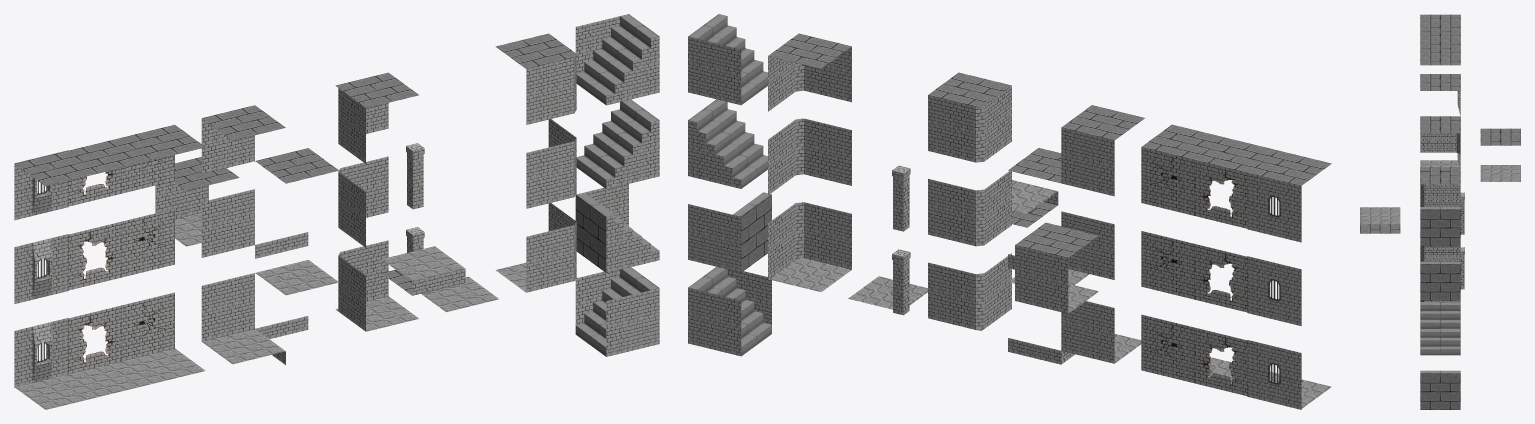
The model's file is StoneInterior_Tileset.fbx.
The picture shows the model from 3 angles, left to right: view 1: azimuth 30°, elevation 25°; view 2: azimuth 150°, elevation 25°; view 3: azimuth 270°, elevation 25°; orthographic projection. The views are drawn at different scales.
Visible parts, largest first — view 1: stone_stairs01_2x2_leftWall01, stone_stairs01_2x2_doubleWall01, stone_stairs01_2x2, stone_stairs01_2x2_rightWall01, stone_window01_floor01, stone_wall01cracking_floor01, stone_wall01_floor01, stone_wall01cornerOutside_ceiling01, stone_wall01cornerInside_floor01, stone_wall01hole_floor01, stone_wall01cornerOutside_floor01, stone_wall01cornerInside_ceiling01 (+18 smaller); view 2: stone_wall01cornerInside_ceiling01, stone_wall01cornerOutside_floor01, stone_stairs01_2x2_doubleWall01, stone_wall01_floor01_ceiling01, stone_stairs01_2x2_leftWall01, stone_stairs01_2x2, stone_stairs01_2x2_rightWall01, stone_wall01cornerOutside_ceiling01, stone_wall01cornerOutside_standard, stone_wall01cornerInside_standard, stone_window01_ceiling01, stone_wall01cornerInside_floor01 (+16 smaller); view 3: stone_stairs01_2x2_rightWall01, stone_stairs01_2x2, stone_stairs01_2x2_leftWall01, stone_stairs01_2x2_doubleWall01, stone_wall01cornerOutside_ceiling01, stone_wall01cornerInside_ceiling01, stone_wall01_floor01_ceiling01, stone_platform01_side, stone_wall01cracking_ceiling01, stone_wall01hole_ceiling01, stone_window01_ceiling01, stone_wall01_ceiling01 (+4 smaller).
Boxes of the visible parts, x1,y1,x2,y2 form: stone_stairs01_2x2_leftWall01: [575, 14, 659, 105]; stone_stairs01_2x2_doubleWall01: [575, 267, 659, 356]; stone_stairs01_2x2: [576, 99, 659, 189]; stone_stairs01_2x2_rightWall01: [575, 184, 659, 272]; stone_window01_floor01: [14, 318, 98, 409]; stone_wall01cracking_floor01: [121, 292, 205, 383]; stone_wall01_floor01: [201, 273, 285, 364]; stone_wall01cornerOutside_ceiling01: [495, 33, 578, 124]; stone_wall01cornerInside_floor01: [335, 240, 418, 331]; stone_wall01hole_floor01: [68, 305, 151, 396]; stone_wall01cornerOutside_floor01: [495, 203, 578, 292]; stone_wall01cornerInside_ceiling01: [335, 72, 418, 163]; stone_wall01cornerInside_ceiling01: [928, 72, 1011, 162]; stone_wall01cornerOutside_floor01: [768, 202, 851, 291]; stone_stairs01_2x2_doubleWall01: [688, 266, 771, 356]; stone_wall01_floor01_ceiling01: [1015, 222, 1098, 313]; stone_stairs01_2x2_leftWall01: [688, 14, 767, 105]; stone_stairs01_2x2: [688, 99, 767, 188]; stone_stairs01_2x2_rightWall01: [688, 192, 771, 272]; stone_wall01cornerOutside_ceiling01: [768, 33, 851, 111]; stone_wall01cornerOutside_standard: [768, 118, 851, 195]; stone_wall01cornerInside_standard: [928, 171, 1011, 246]; stone_window01_ceiling01: [1247, 150, 1331, 242]; stone_wall01cornerInside_floor01: [928, 253, 1011, 330]; stone_stairs01_2x2_rightWall01: [1420, 302, 1460, 355]; stone_stairs01_2x2: [1420, 261, 1460, 300]; stone_stairs01_2x2_leftWall01: [1420, 207, 1460, 246]; stone_stairs01_2x2_doubleWall01: [1420, 370, 1460, 409]; stone_wall01cornerOutside_ceiling01: [1420, 167, 1460, 206]; stone_wall01cornerInside_ceiling01: [1420, 116, 1460, 154]; stone_wall01_floor01_ceiling01: [1480, 128, 1520, 181]; stone_platform01_side: [1360, 207, 1400, 233]; stone_wall01cracking_ceiling01: [1420, 48, 1460, 65]; stone_wall01hole_ceiling01: [1420, 31, 1460, 48]; stone_window01_ceiling01: [1420, 14, 1460, 31]; stone_wall01_ceiling01: [1420, 74, 1460, 90].
Size of the model in its own units: 2302 by 1102 by 800.
